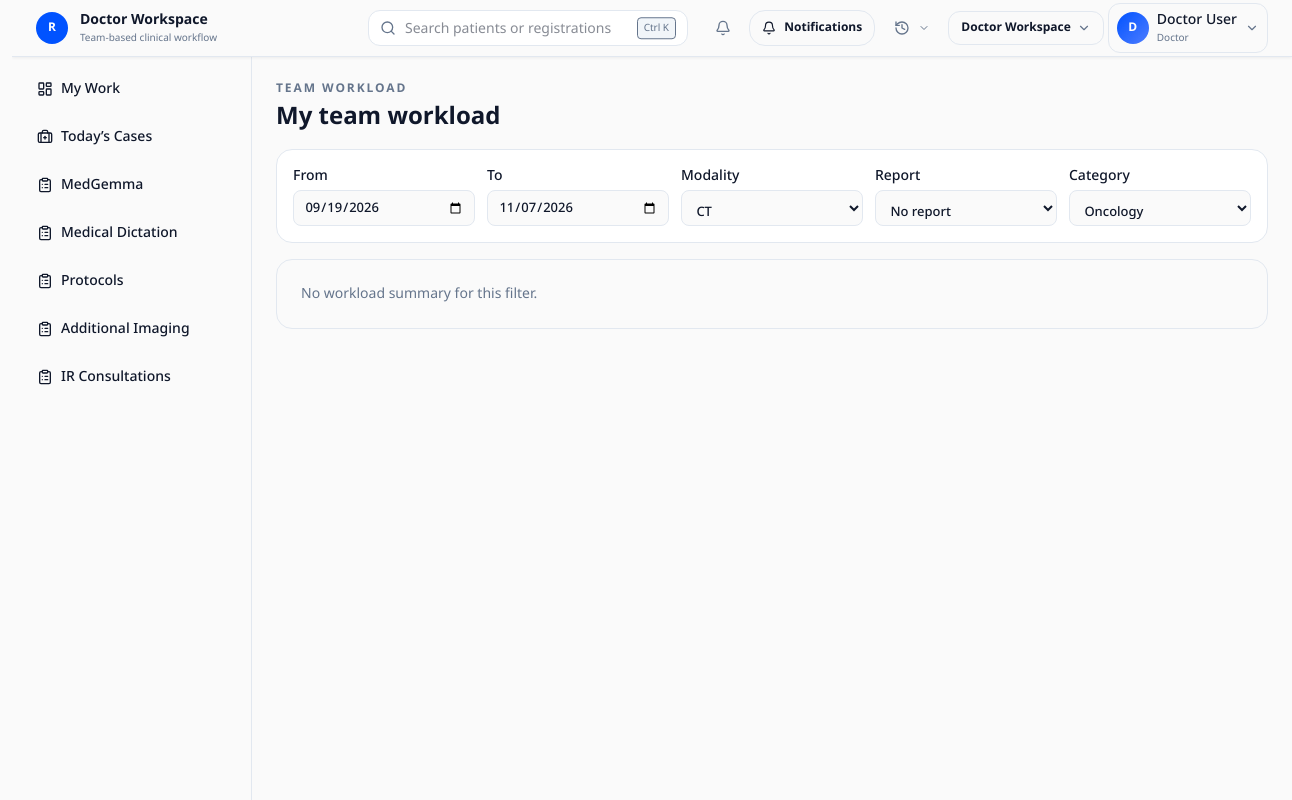
Doctor Portal shell › keeps Team Workload filters URL-authoritative across direct links and changes
This screenshot has width=1292, height=800.
Expected: the date field showing "2026-09-19" is shown, [293,190,475,226]
Expected: the dropdown labelled "Report" shows "No report", [875,190,1057,226]
Select "MRI" in the dropdown labelled "Modality" at (772, 208), box [681,190,863,226]
(page scrolled)
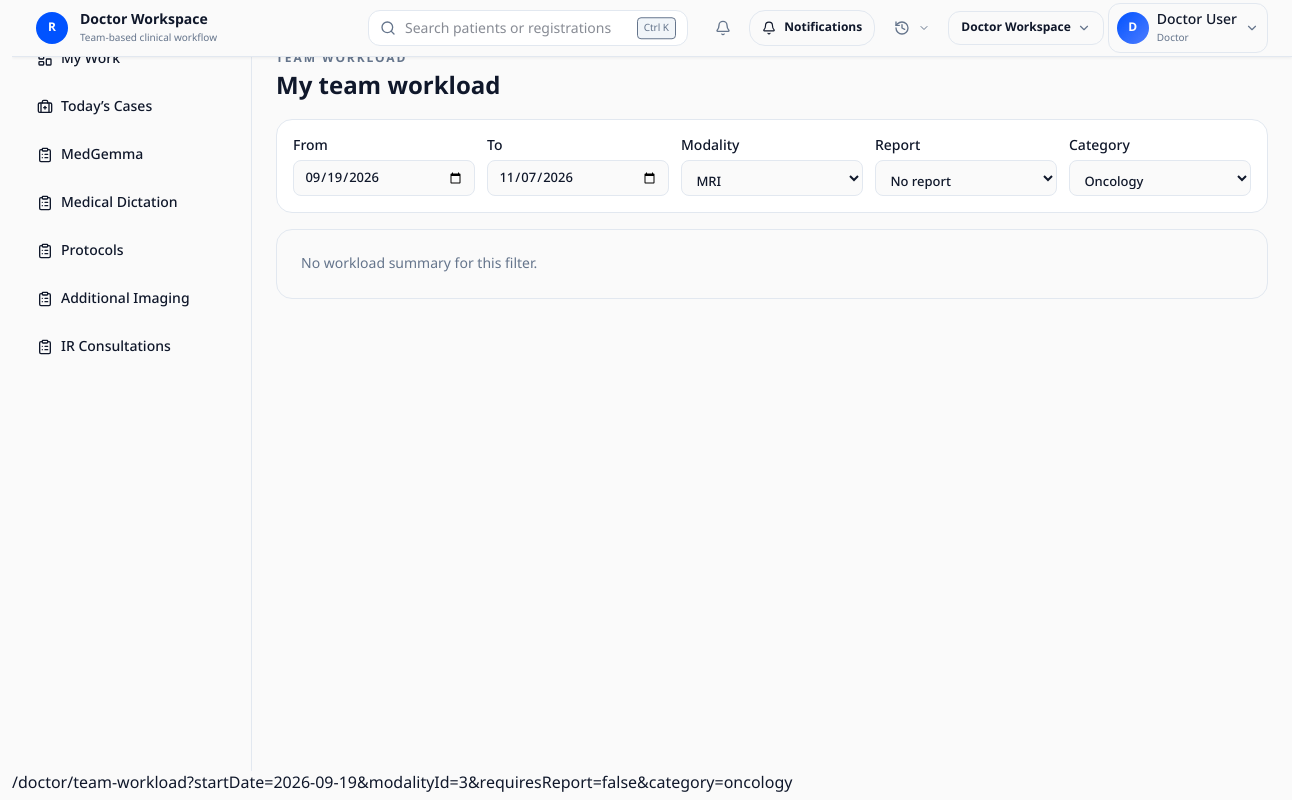
Now the text with test id "location-probe" shows "/doctor/team-workload?startDate=2026-09-19&modalityId=3&requiresReport=false&category=oncology", box [12,766,792,799]
